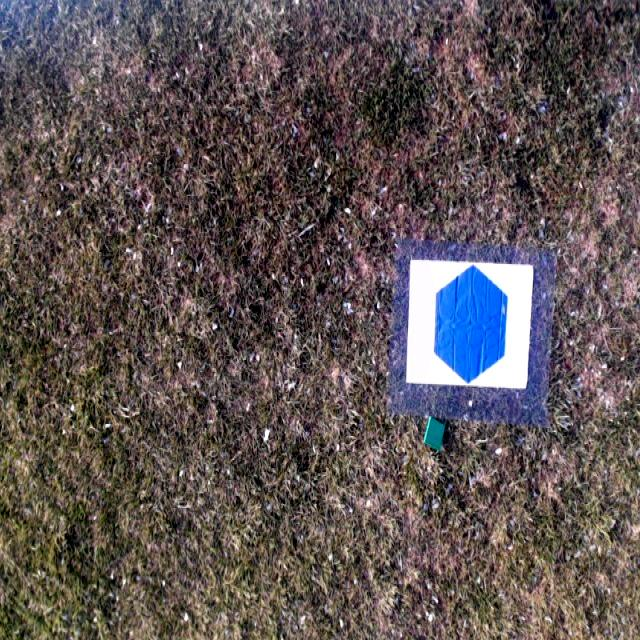blue_hexagon: (435, 266, 507, 384)
